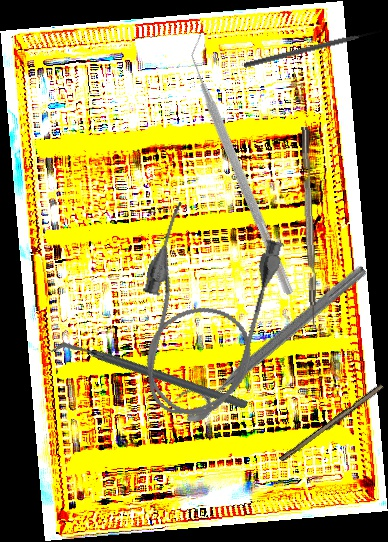Cannula: (115, 198, 289, 430)
Chopper: (106, 33, 384, 297), (49, 279, 250, 474), (301, 126, 326, 335)
Fixation Ring: (169, 249, 372, 429)
Hook Surgical: (243, 28, 382, 69)
Scalpel Handle: (278, 381, 386, 466)
